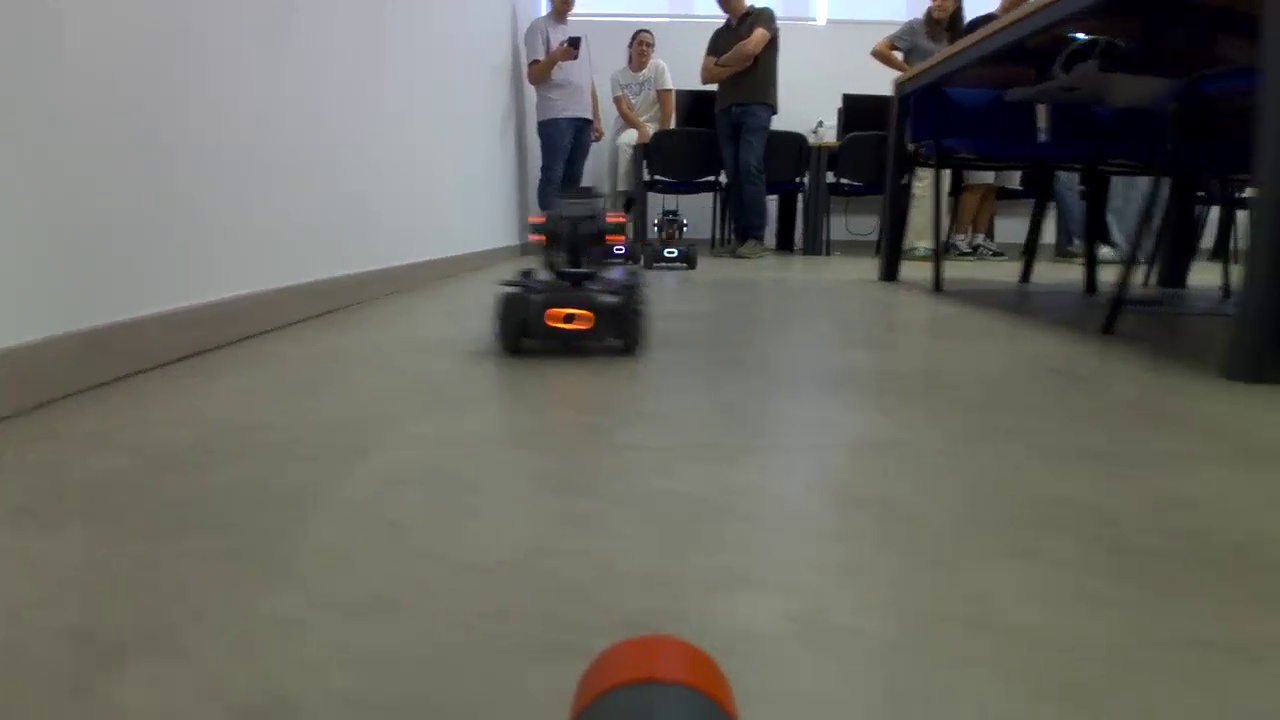robot: (494, 200, 649, 361), (644, 208, 698, 268)
